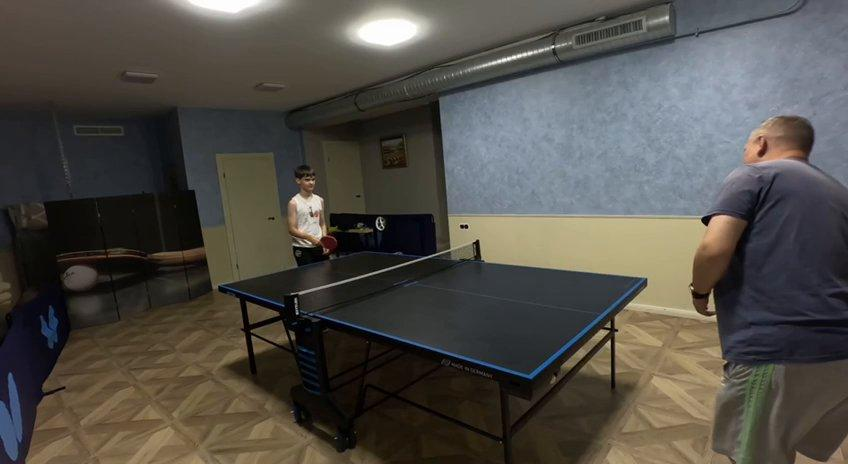Net: (282, 241, 481, 325)
Player1: (288, 165, 334, 263)
Player2: (692, 115, 847, 463)
Table: (225, 249, 647, 374)
